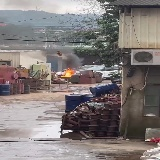fire: (60, 68, 74, 77)
